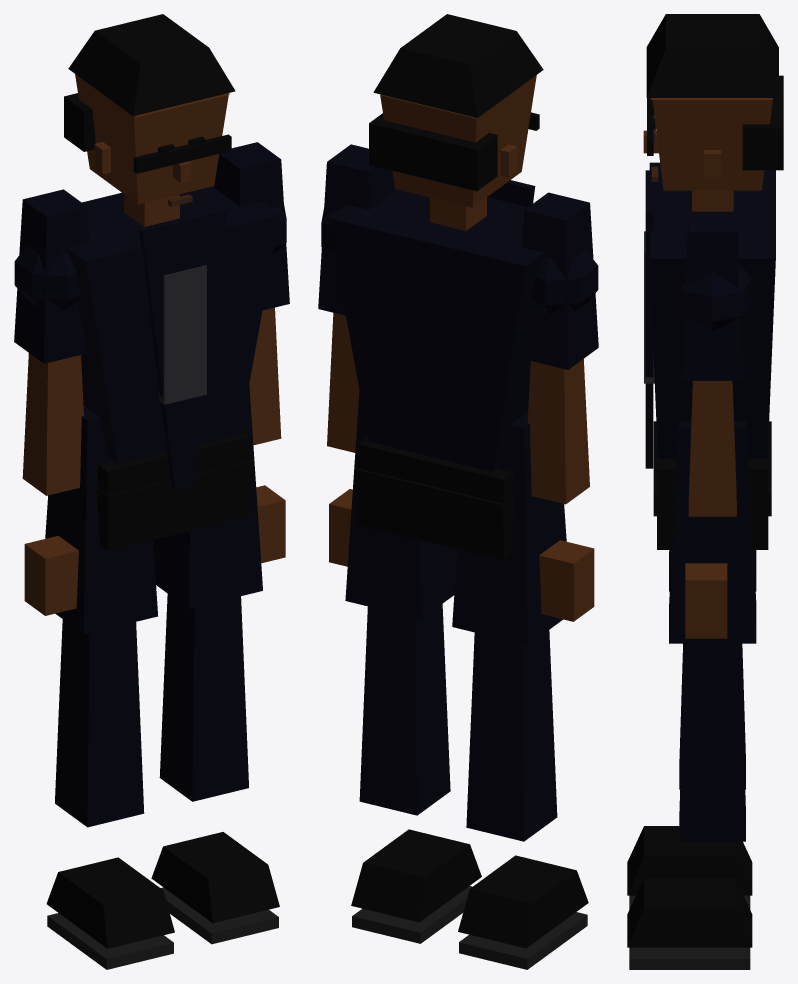
File: npc_male_suit.glb
3 renders of one model, left to right at view 1: azimuth 30°, elevation 25°; view 2: azimuth 150°, elevation 25°; view 3: azimuth 270°, elevation 25°, orthographic.
Parts seen in each view (by area): view 1: torso, head, lowerLegL, lowerLegR, hips, foreArmR, upperLegR, upperArmR, footR, footL, upperLegL, foreArmL (+1 smaller); view 2: torso, head, lowerLegL, lowerLegR, hips, upperLegR, foreArmR, upperArmR, footR, footL, upperLegL, upperArmL (+1 smaller); view 3: head, torso, lowerLegL, footL, upperArmL, upperLegL, foreArmL, footR, hips, lowerLegR.
Boxes of the visible parts, box(x1,y1,x2,y2) form: torso: box(67, 184, 279, 490); head: box(64, 14, 235, 206); lowerLegL: box(159, 594, 248, 801); lowerLegR: box(55, 619, 144, 827); hips: box(97, 430, 253, 550); foreArmR: box(22, 353, 83, 615); upperLegR: box(45, 405, 157, 634); upperArmR: box(14, 189, 89, 363); footR: box(46, 857, 174, 969); footL: box(151, 832, 279, 944); upperLegL: box(153, 384, 262, 608); foreArmL: box(249, 307, 285, 563); torso: box(328, 180, 543, 471); head: box(369, 14, 543, 207); lowerLegL: box(359, 604, 450, 815); lowerLegR: box(466, 630, 557, 841); hips: box(355, 437, 513, 560); upperLegR: box(452, 412, 566, 645); foreArmR: box(527, 359, 594, 621); upperArmR: box(522, 192, 598, 369); footR: box(458, 855, 588, 969); footL: box(351, 829, 481, 943); upperLegL: box(345, 390, 457, 619); upperArmL: box(318, 144, 394, 315); head: box(643, 14, 783, 190); torso: box(644, 162, 775, 468); lowerLegL: box(679, 643, 745, 841); footL: box(627, 878, 752, 969); upperArmL: box(672, 211, 752, 380); upperLegL: box(669, 421, 756, 643); foreArmL: box(685, 381, 736, 638); footR: box(627, 826, 752, 909); hips: box(653, 421, 771, 549); lowerLegR: box(679, 643, 745, 789).
Bounding box in the file's own units: 0.551 × 1.78 × 0.2809.
